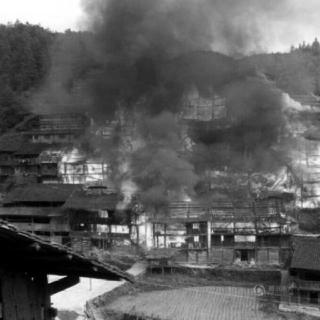Fire: (52, 70, 316, 259)
Smoke: (67, 9, 277, 95)
